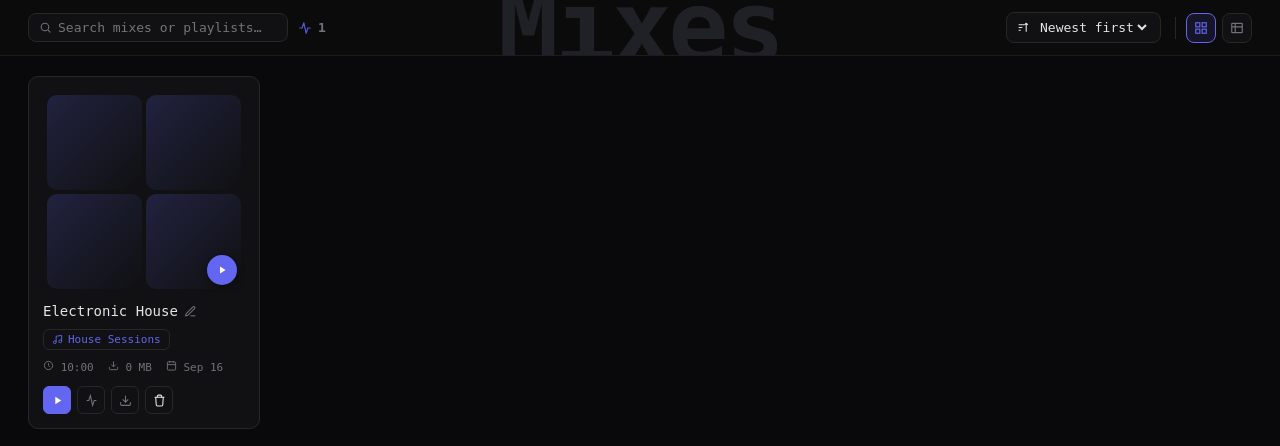
Test: MixesView › returns to the Mixes list when the Mix Story back button is clicked
Expected: the text "Electronic House" is shown, 43,303 -> 178,319
What coordinates should you click on to do the following:
click the button named "View breakdown of Electronic House"
I would click on:
 (91, 400)
Its box is 77,386 -> 105,414.
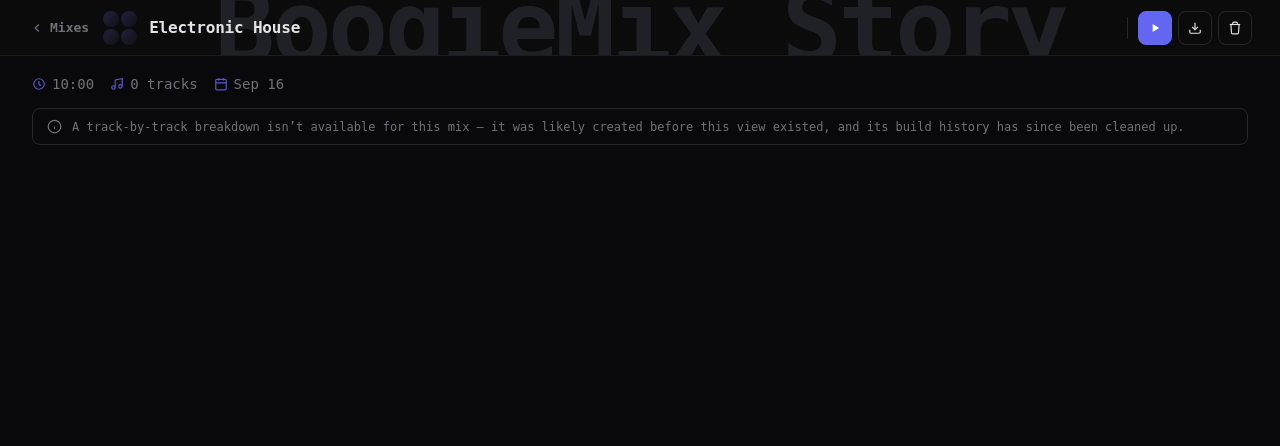
What coordinates should you click on to do the following:
click the button with aria-label "Back to Mixes"
I would click on:
 (60, 28)
Its box is 28,16 -> 91,39.
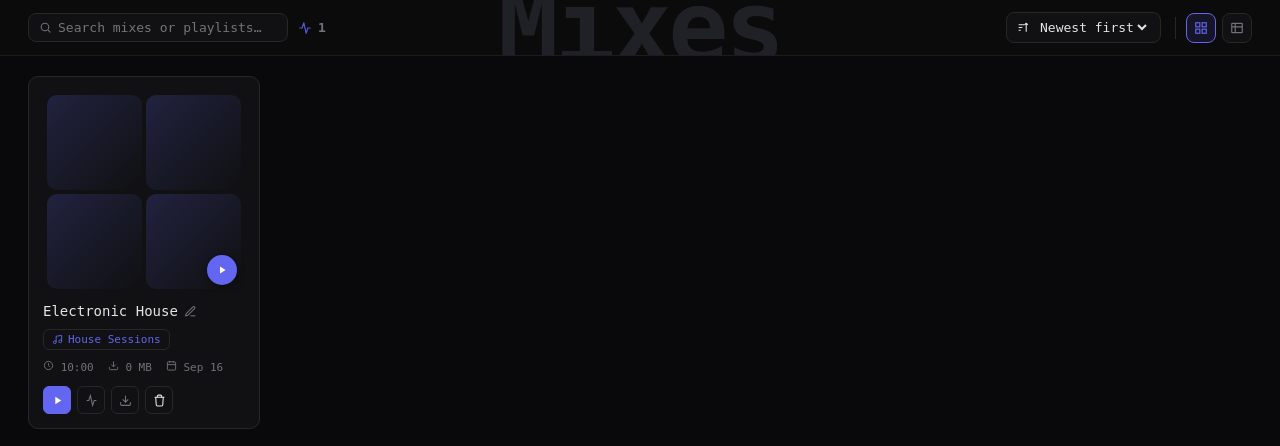
Result: the field with placeholder "Search mixes or playlists…" is shown at 58,20 -> 277,35
